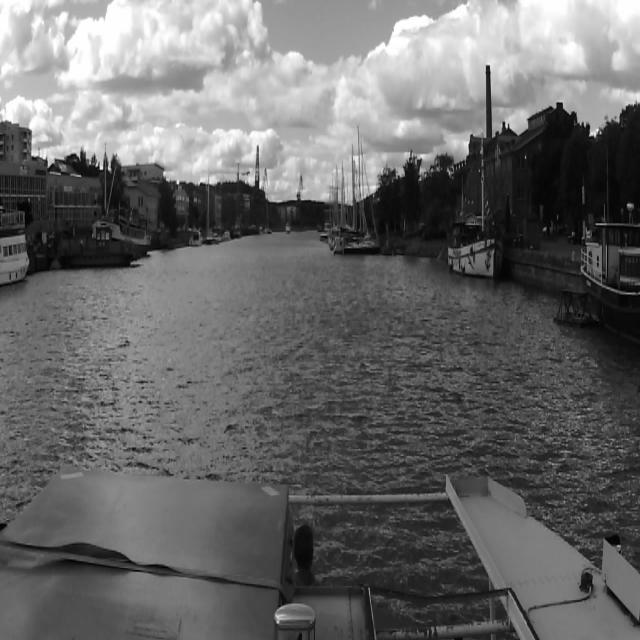ship: (571, 203, 640, 335), (445, 134, 503, 278), (337, 120, 381, 261), (52, 228, 140, 268), (187, 224, 202, 248), (284, 224, 290, 233)
